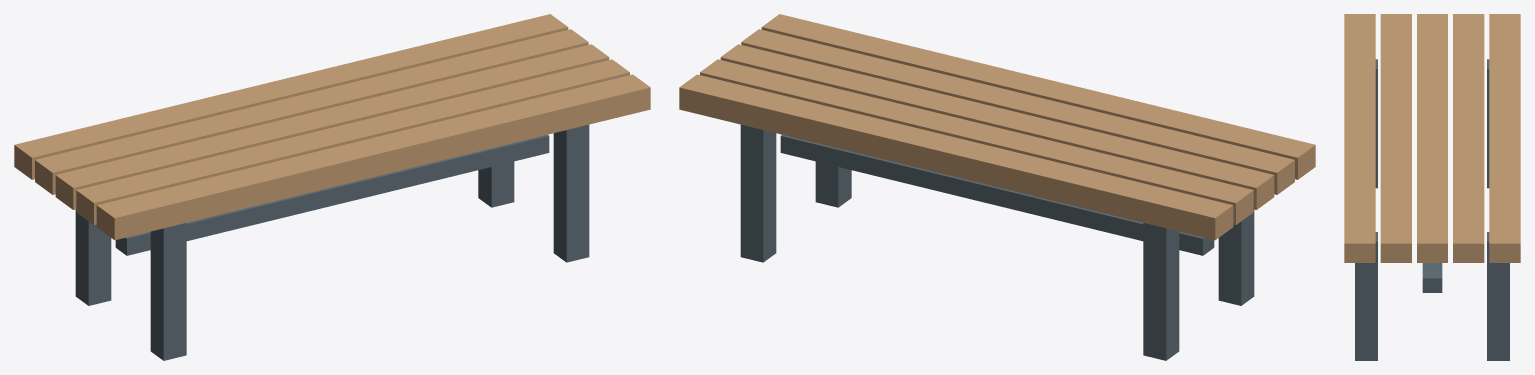
The model's file is slat-bench.glb.
3 views of the same model, side by side, from view 1: azimuth 30°, elevation 25°; view 2: azimuth 150°, elevation 25°; view 3: azimuth 270°, elevation 25° (orthographic). The views are drawn at different scales.
Parts seen in each view (by area): view 1: slat-bench; view 2: slat-bench; view 3: slat-bench.
Boxes of the visible parts, left/top/right/bottom form: slat-bench: left=14, top=14, right=650, bottom=360; slat-bench: left=679, top=14, right=1315, bottom=360; slat-bench: left=1344, top=14, right=1520, bottom=360.
Size of the model in its own units: 1.65 by 0.4725 by 0.535.
